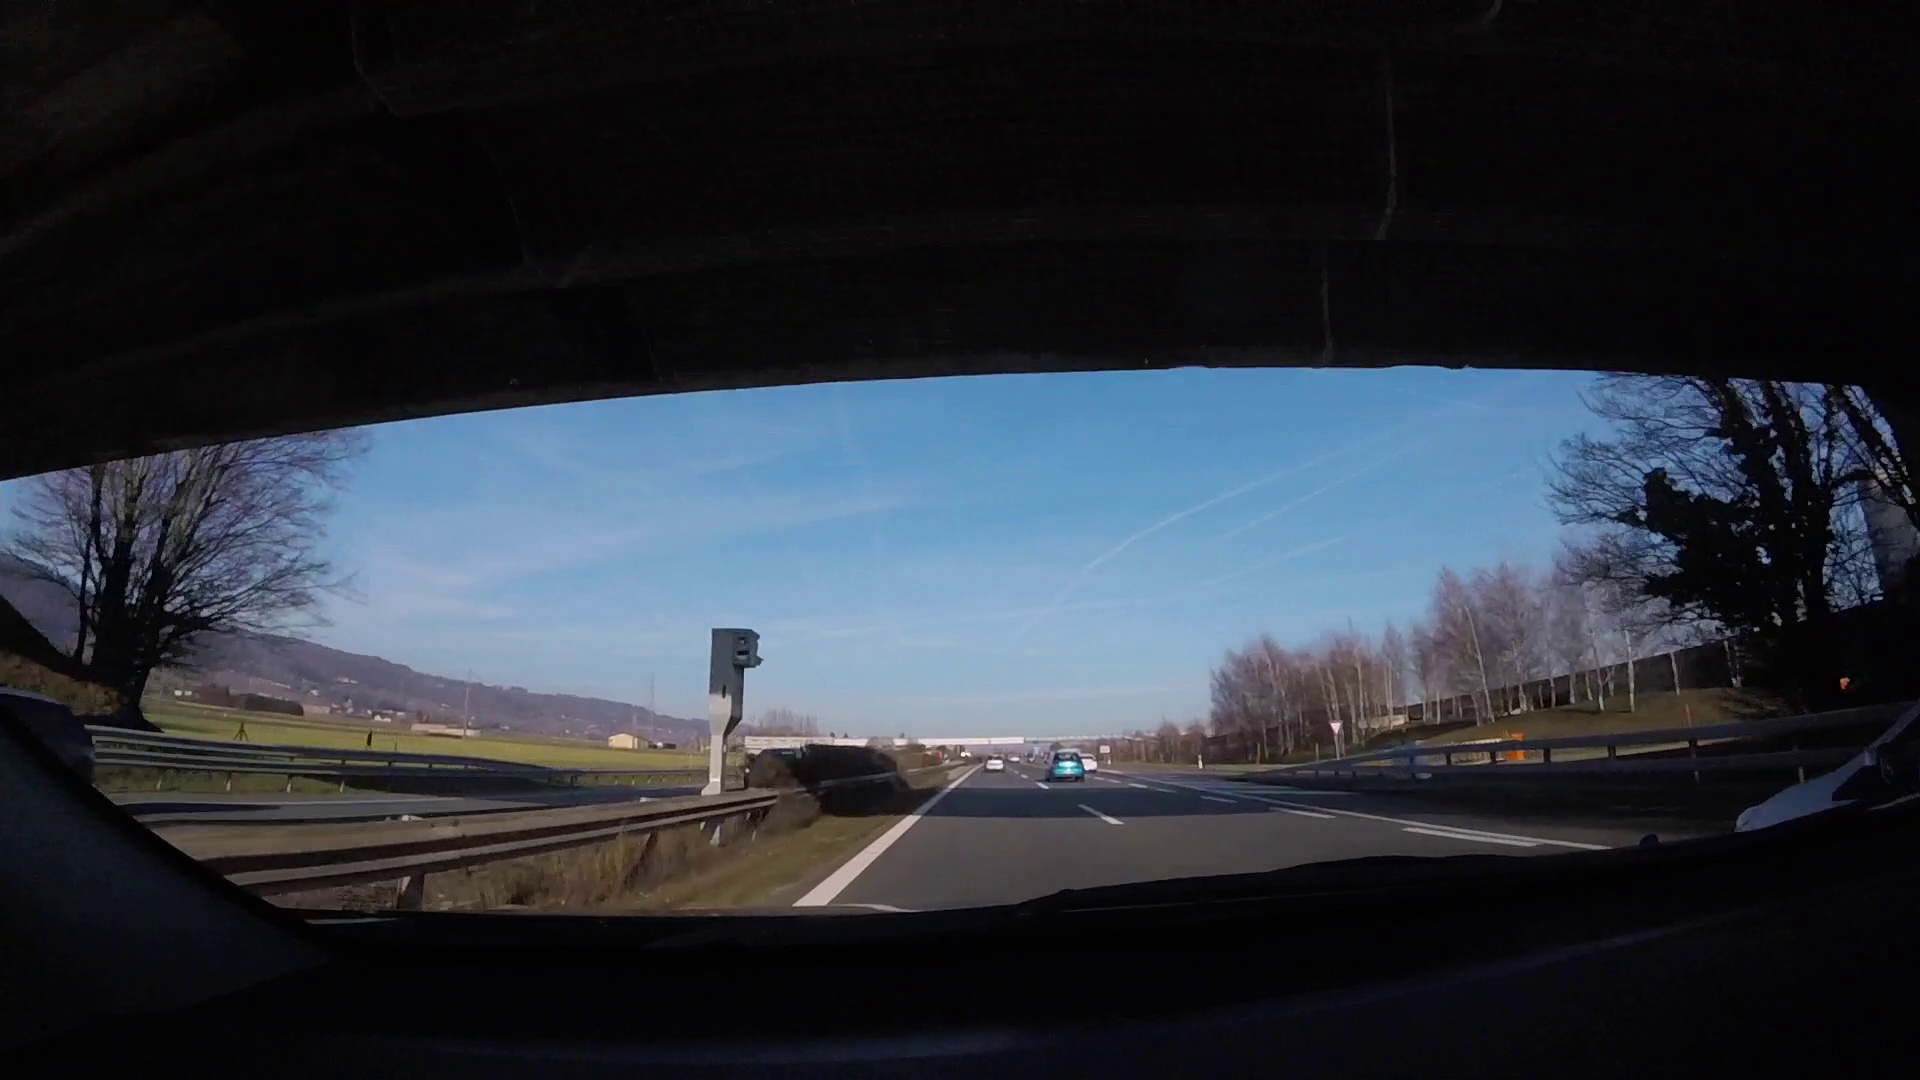radar: (708, 626, 765, 785)
